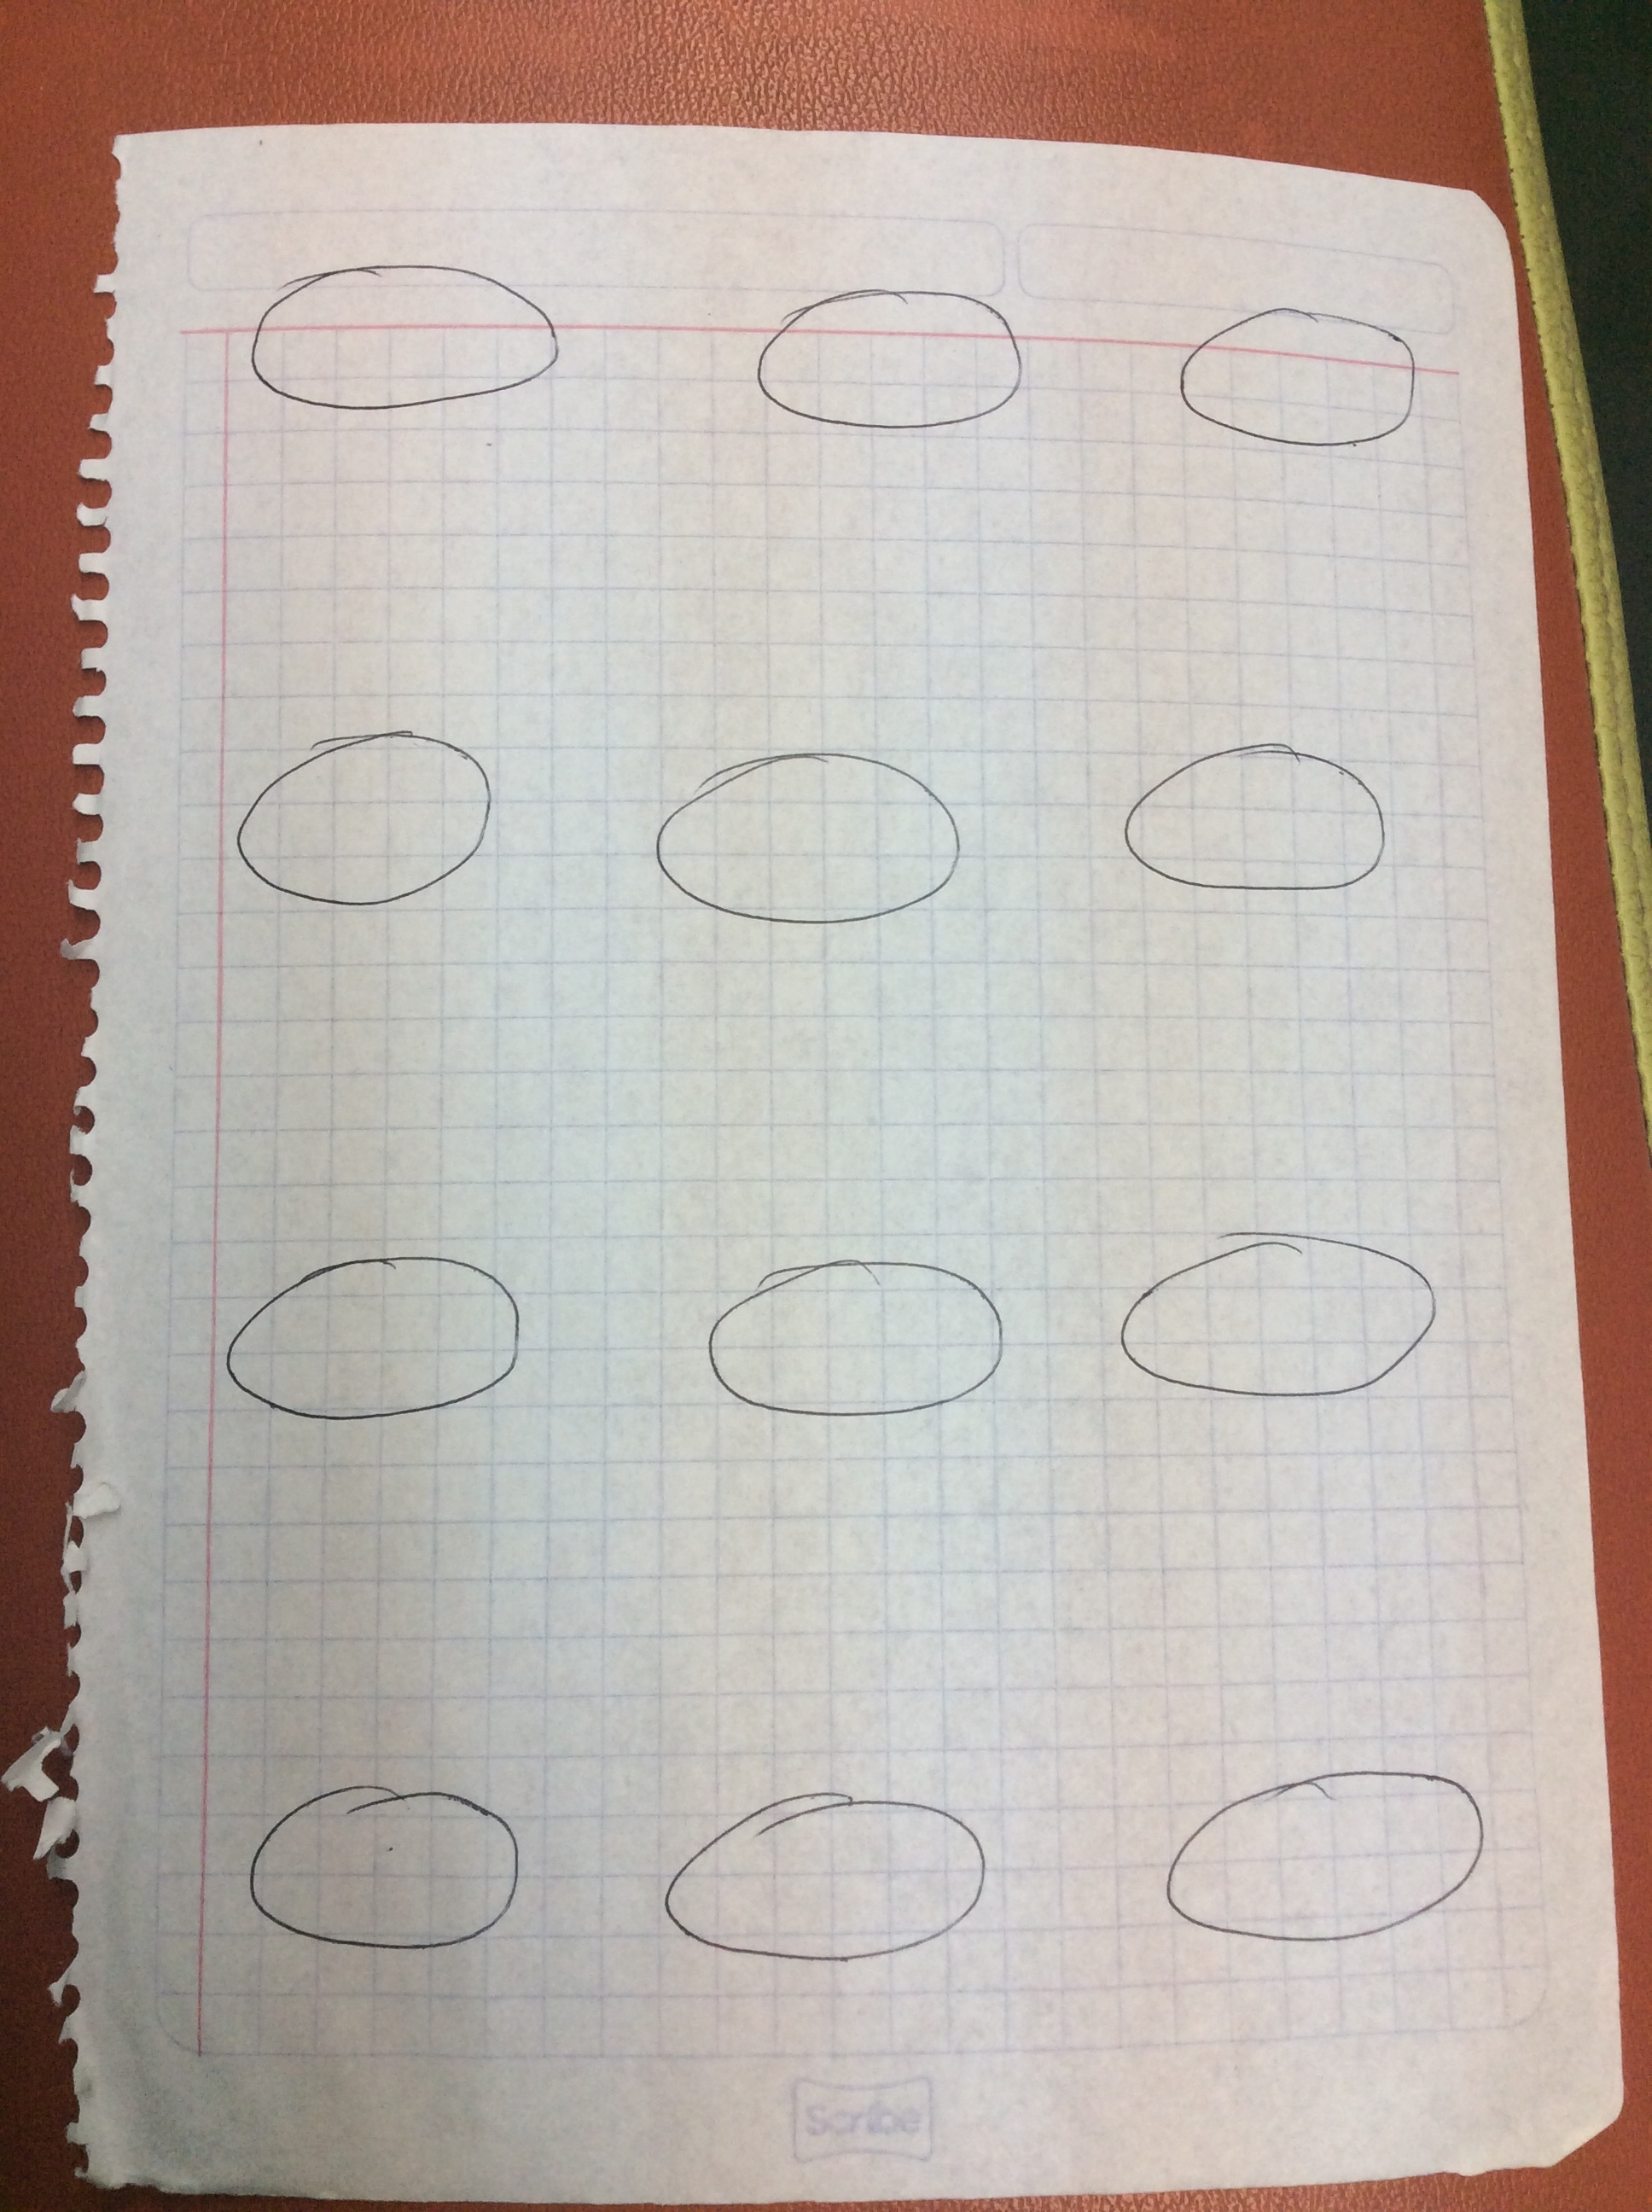start_end: (619, 1751, 1015, 1993), (1114, 1740, 1520, 1973), (633, 720, 998, 959), (200, 1740, 559, 1980), (1090, 1209, 1463, 1430), (665, 1232, 1043, 1443), (1086, 710, 1425, 942), (193, 1235, 555, 1450), (220, 696, 521, 949), (227, 239, 571, 451), (715, 260, 1057, 461), (1145, 264, 1452, 484)
